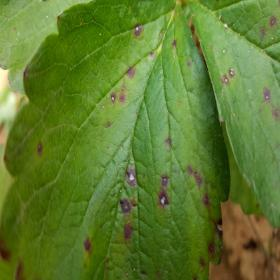Leaf Spot: (0, 0, 230, 279), (184, 0, 279, 229)
